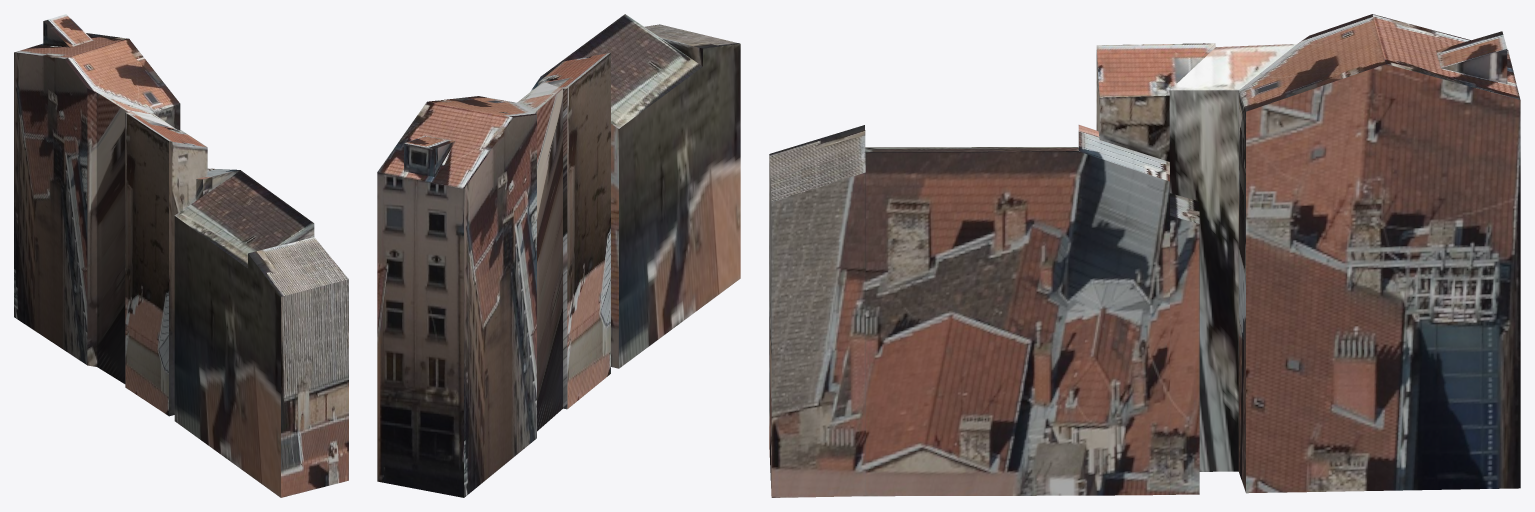
3 renders of one model, left to right at view 1: azimuth 30°, elevation 25°; view 2: azimuth 150°, elevation 25°; view 3: azimuth 270°, elevation 25°, orthographic. The views are drawn at different scales.
Visible parts, largest first — view 1: Z_UP; view 2: Z_UP; view 3: Z_UP.
Boxes of the visible parts, x1,y1,x2,y2 form: Z_UP: (14, 14, 348, 497); Z_UP: (377, 14, 740, 497); Z_UP: (769, 14, 1520, 497).
Size of the model in its own units: 7.55 by 25.16 by 40.11.
Materials: 2 (1 with a texture image).
